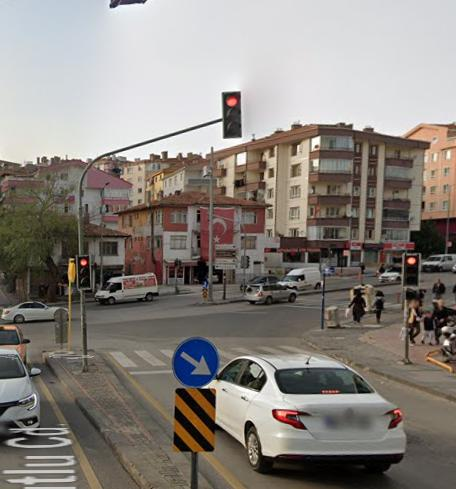redlight: (223, 91, 243, 139), (403, 253, 420, 287), (76, 254, 92, 290)
